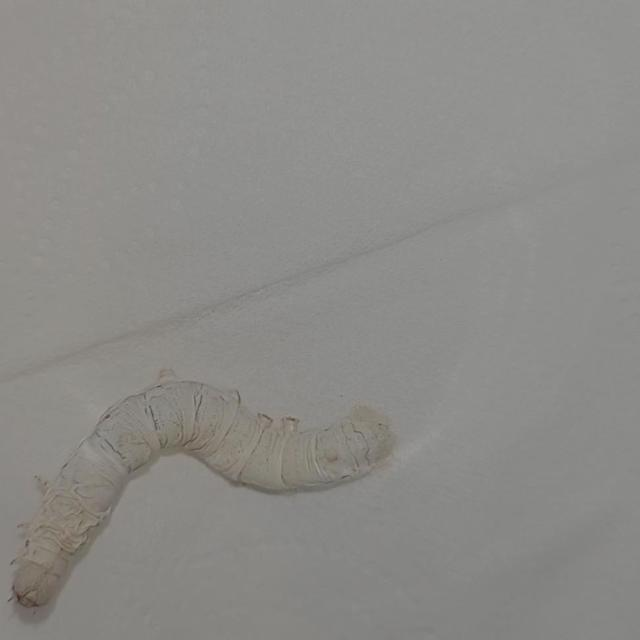Healthy: (0, 330, 404, 625)
